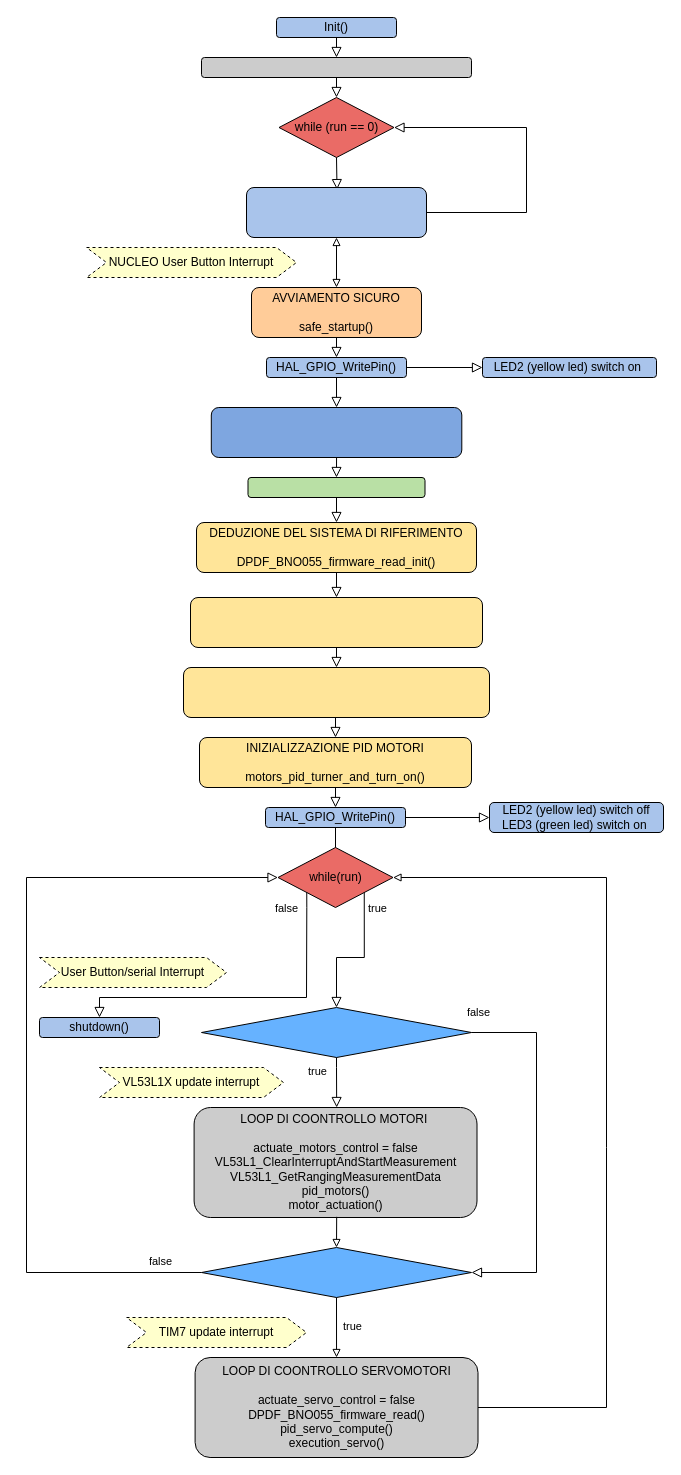
Some shapes in this 681 by 1475 pixel diagram are drawn without their labels. The centre of each missing label's shape, as x and y in pixels:
"ATTESA DELL'INTERRUPT __WFI()" belongs at (336,212).
"if( actuate_motors_control == true)" belongs at (336,1032).
"if( actuate_servo_control == true)" belongs at (336,1272).
"INIZIALIZZAZIONE BNO-055" belongs at (336,487).
"Inizializzazione delle strutture dati di controllo" belongs at (336,67).
"INIZIALIZZAZIONE PID SERVOMOTORE PITCH pid_servo_pitch_turner_and_turn_on()" belongs at (336,692).
"INIZIALIZZAZIONE PID SERVOMOTORE ROLL pid_servo_roll_turner_and_turn_on()" belongs at (336,622).
"INIZIALIZZAZIONE VL53L1X VL53L1X_total_platform_init()" belongs at (336,432).
